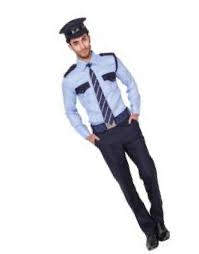uniform: (55, 62, 179, 239)
